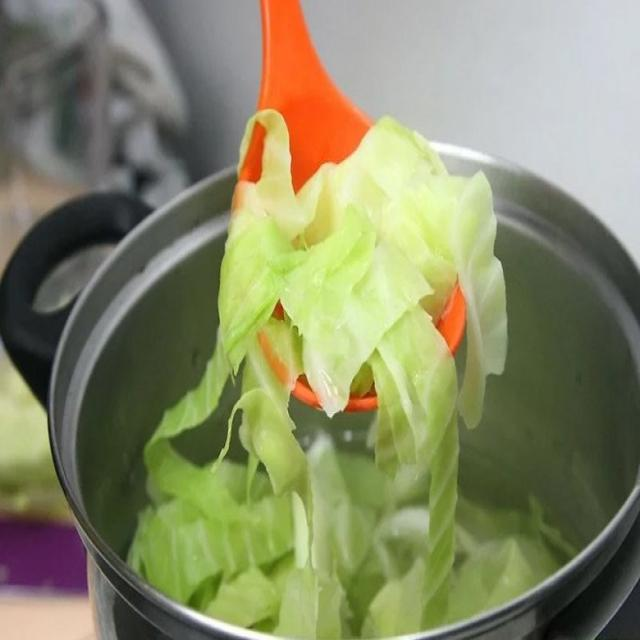bap cai luoc: (127, 73, 577, 639), (218, 109, 505, 480)
